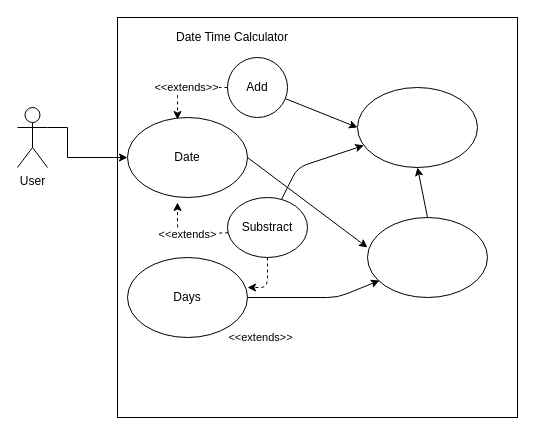
The diagram is 535 pixels wide and 435 high, and some of its shapes have lost their labels. The shapes that lost their labels are listed below. From the top down, each one's box as (x1, y1, x2, y2) in pixels, then its label:
(356, 86, 478, 168): Store Session
(366, 216, 488, 298): Translate
